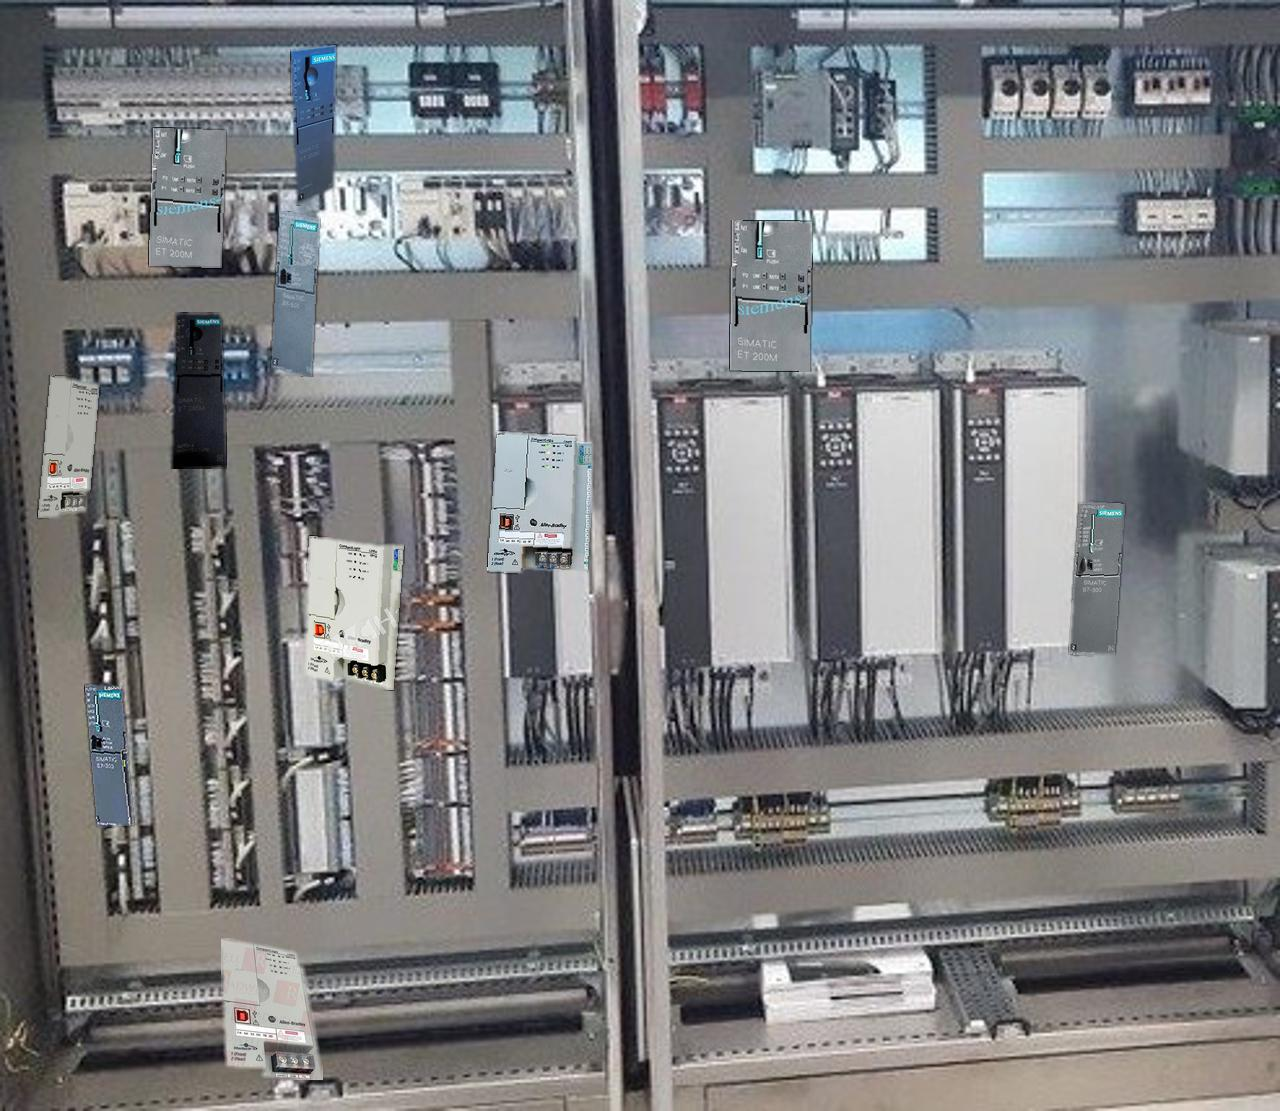AllenBradley: (305, 536, 403, 689), (487, 432, 591, 572), (221, 938, 322, 1079), (38, 375, 98, 517)
Siemens: (1070, 502, 1123, 654), (272, 211, 318, 376), (85, 686, 132, 826)
